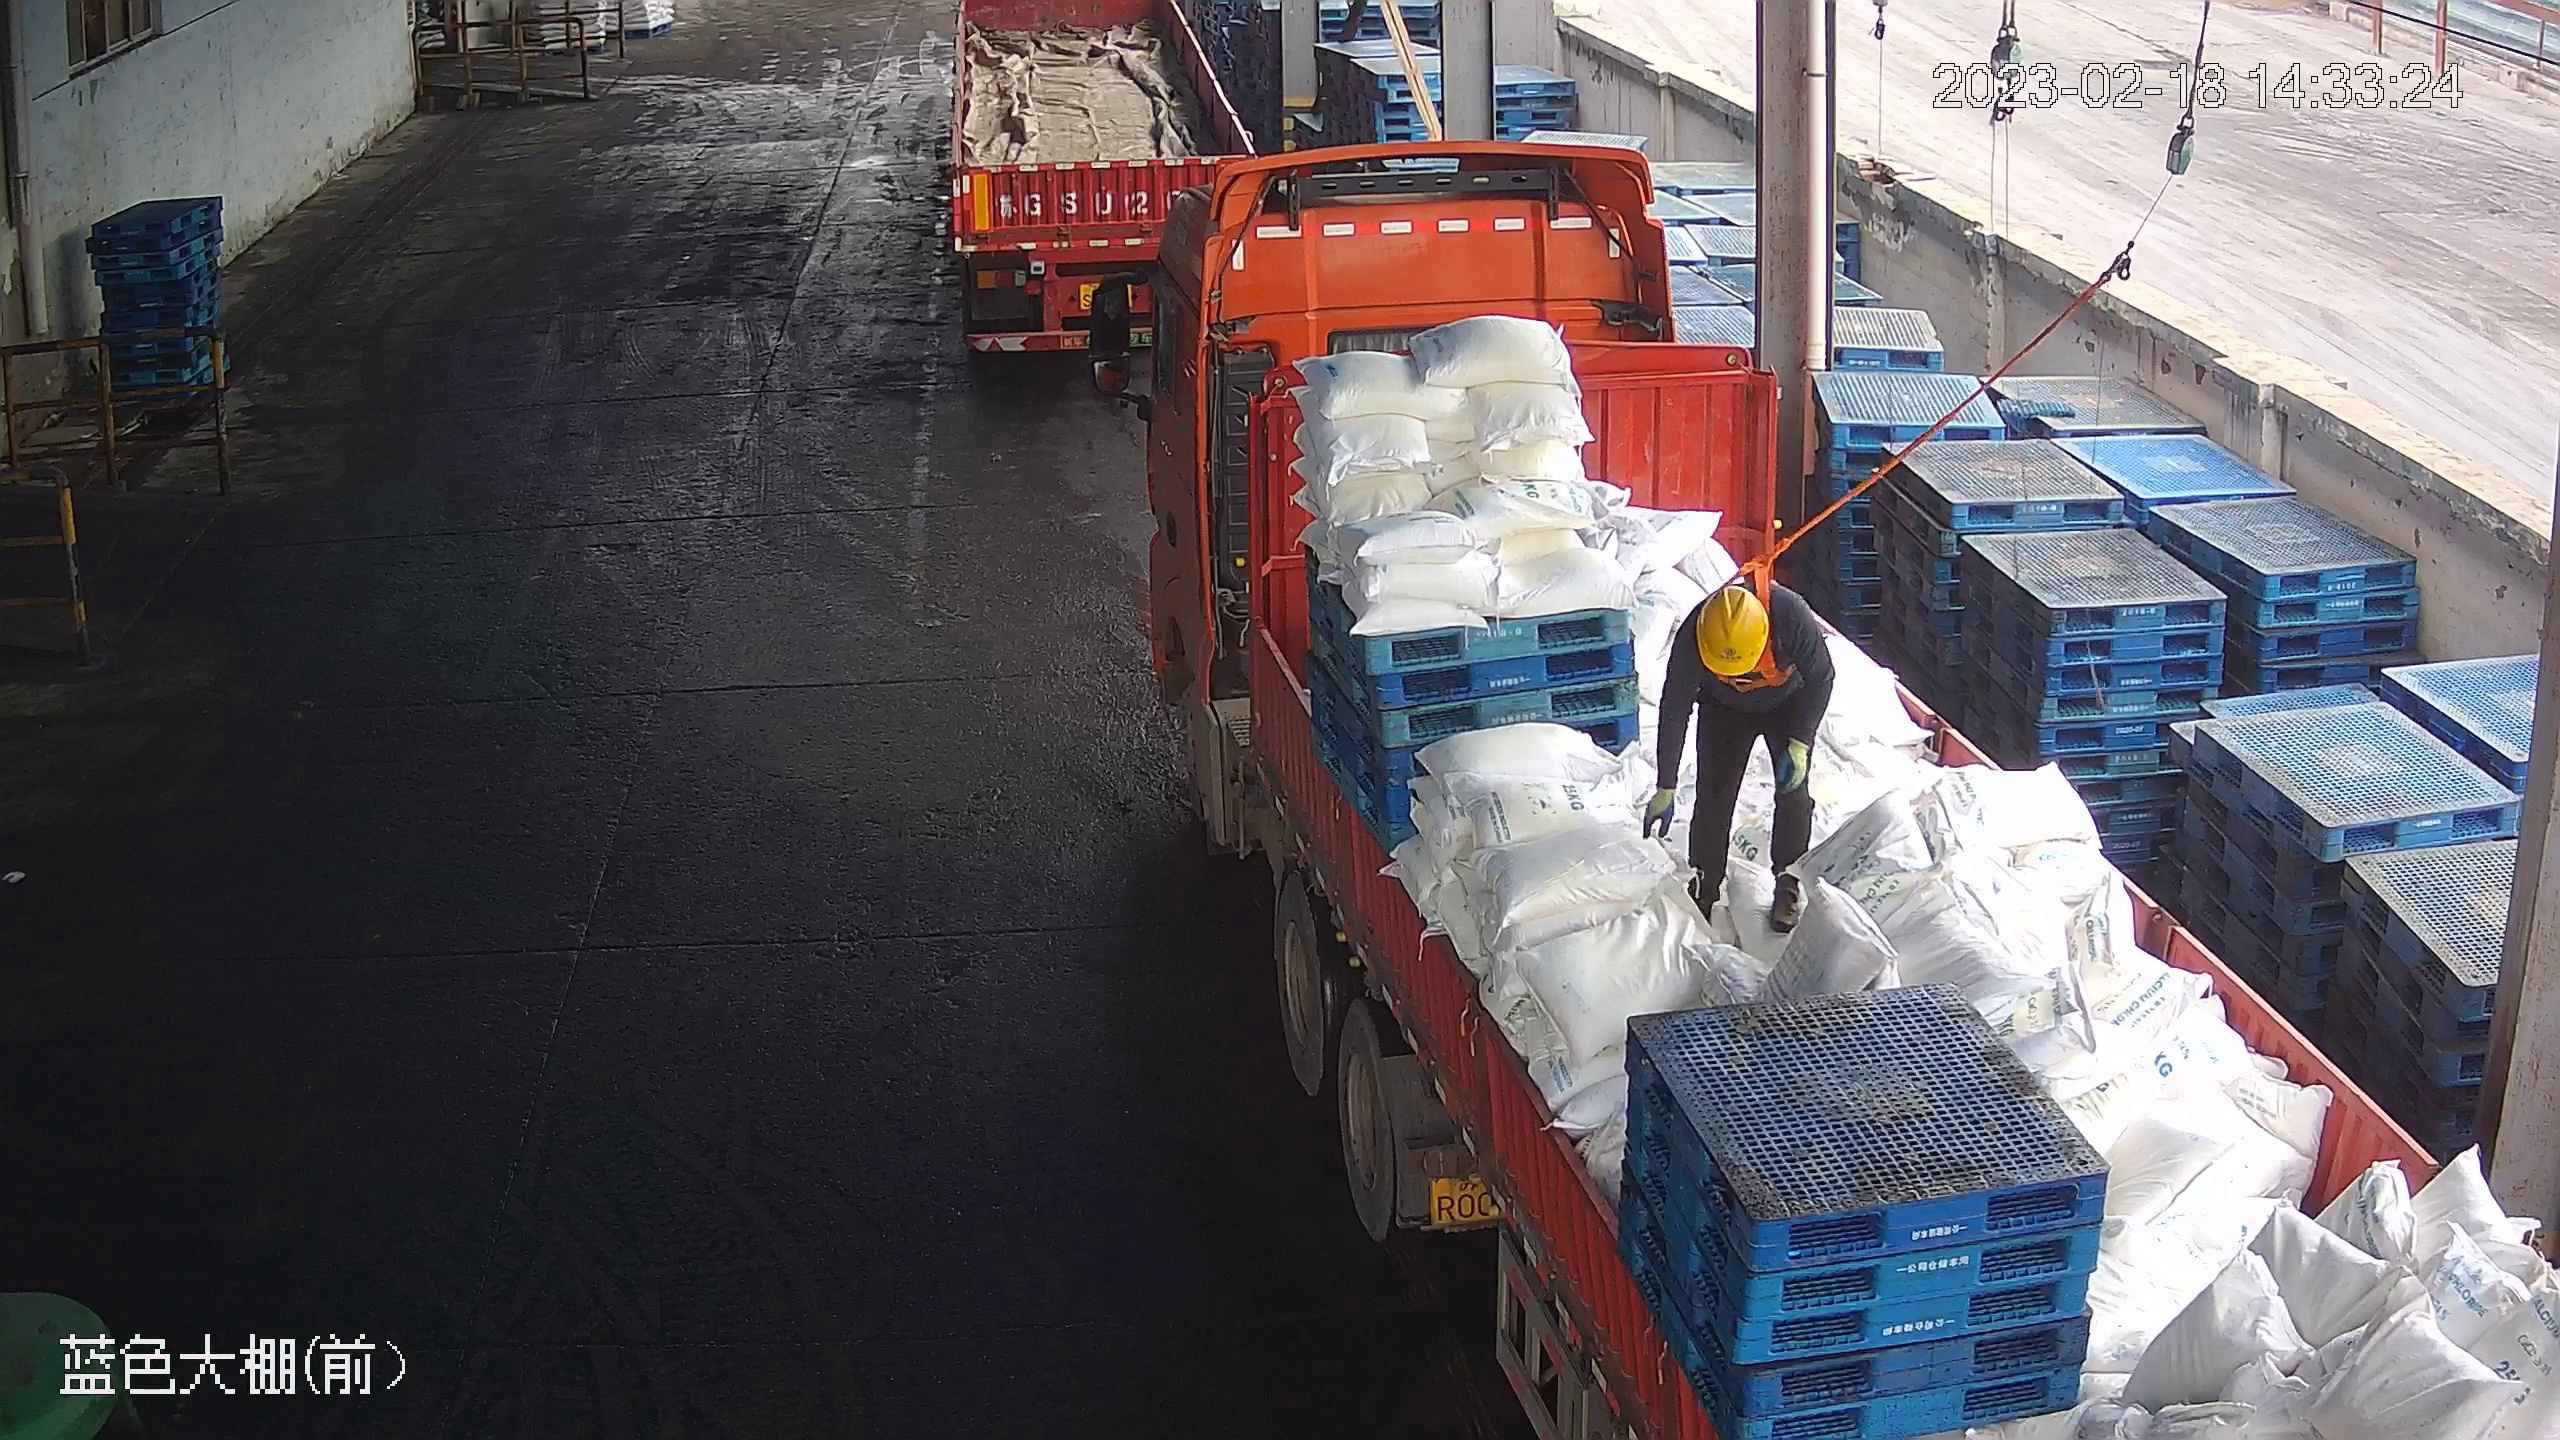belt: (1712, 537, 1810, 703)
head: (1662, 579, 1835, 723)
helmet: (1695, 585, 1773, 675)
people: (1642, 576, 1834, 933)
truck: (1084, 130, 2560, 1440), (942, 1, 1271, 367)
